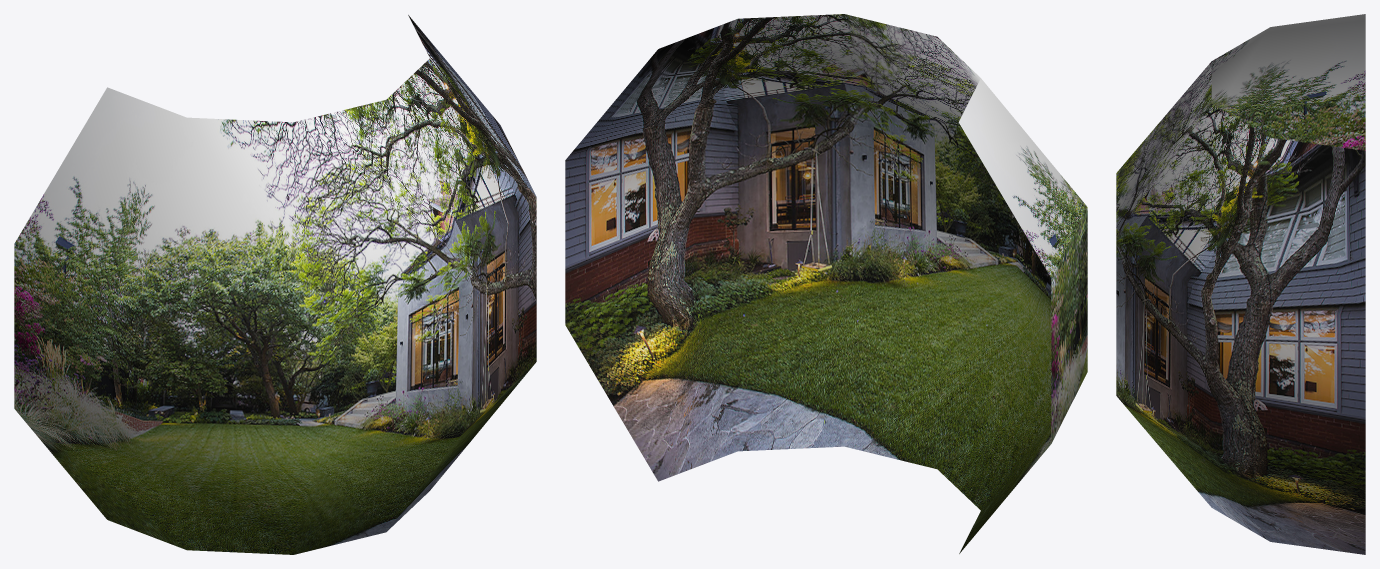
Rendered from M_Dogyuanjing01.FBX.
3 renders of one model, left to right at view 1: azimuth 30°, elevation 25°; view 2: azimuth 150°, elevation 25°; view 3: azimuth 270°, elevation 25°, orthographic. The views are drawn at different scales.
Visible parts, largest first — view 1: M_Dogyuanjing01; view 2: M_Dogyuanjing01; view 3: M_Dogyuanjing01.
Boxes of the visible parts, <box> form: M_Dogyuanjing01: <box>14,15,536,554</box>; M_Dogyuanjing01: <box>565,14,1087,553</box>; M_Dogyuanjing01: <box>1116,14,1365,554</box>.
Bounding box in the file's own units: 15.04 × 12.79 × 7.15.
